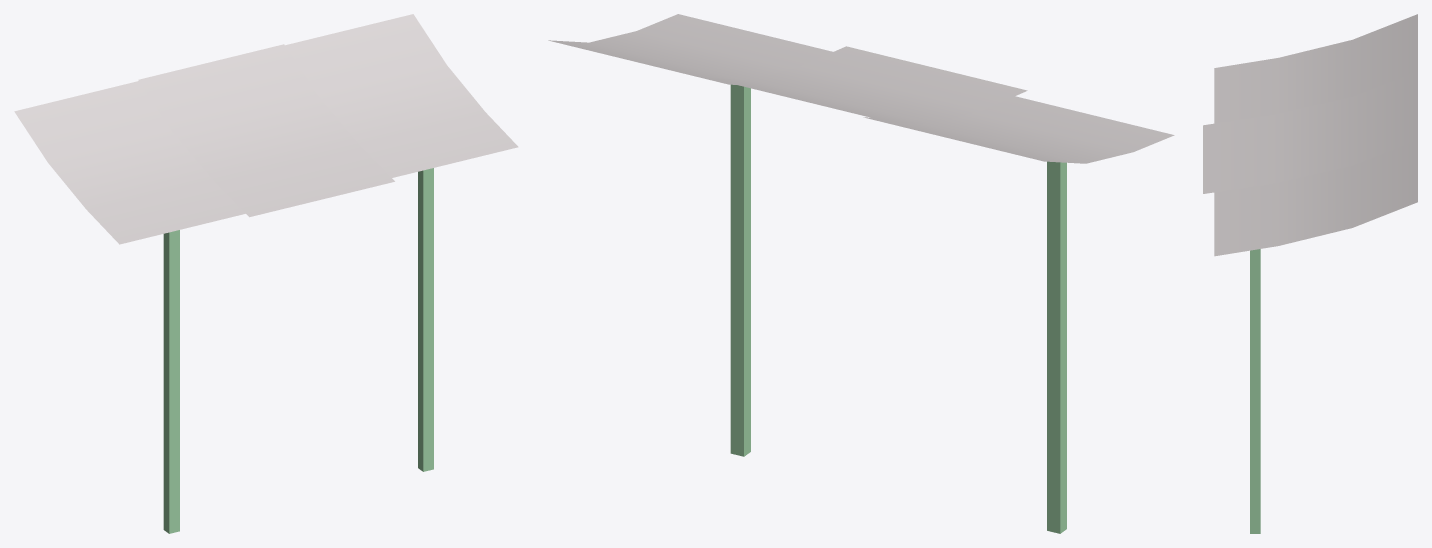
3 renders of one model, left to right at view 1: azimuth 30°, elevation 25°; view 2: azimuth 150°, elevation 25°; view 3: azimuth 270°, elevation 25°, orthographic. The views are drawn at different scales.
Parts seen in each view (by area): view 1: Object08; view 2: Object08; view 3: Object08.
Boxes of the visible parts, bbox=[...] form: Object08: bbox=[14, 14, 518, 533]; Object08: bbox=[548, 14, 1174, 533]; Object08: bbox=[1203, 14, 1417, 533].
Size of the model in its own units: 289 by 261 by 139.
